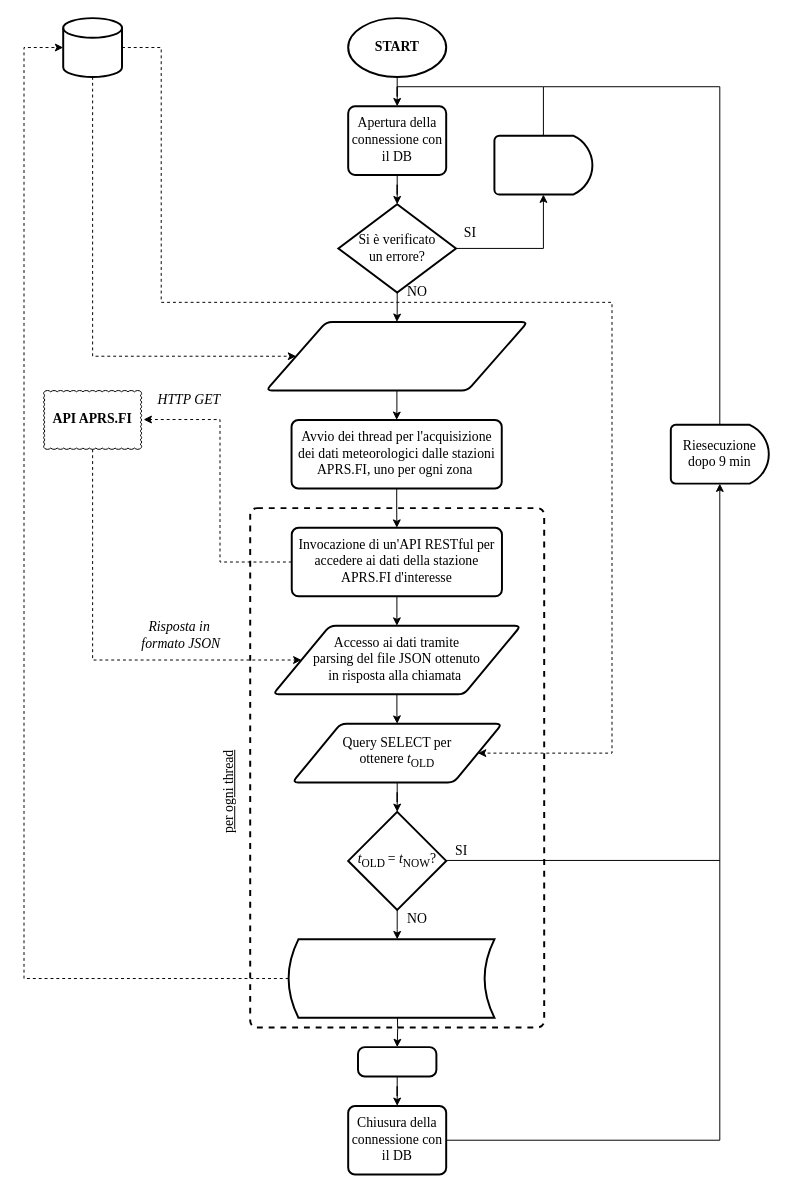
Some shapes in this 787 by 1192 pixel diagram are drawn without their labels. Each missing label, with the centre of its shape:
DB: (92,47)
JOIN: (397,1061)
Nuovo tentativo dopo 15 sec: (543,164)
Query INSERT per inserire nel DB le informazioni meteorologiche appena ottenute: (391,978)
Query SELECT per ottenere i codici delle stazioni APRS.FI, uno per ogni zona: (396,355)
